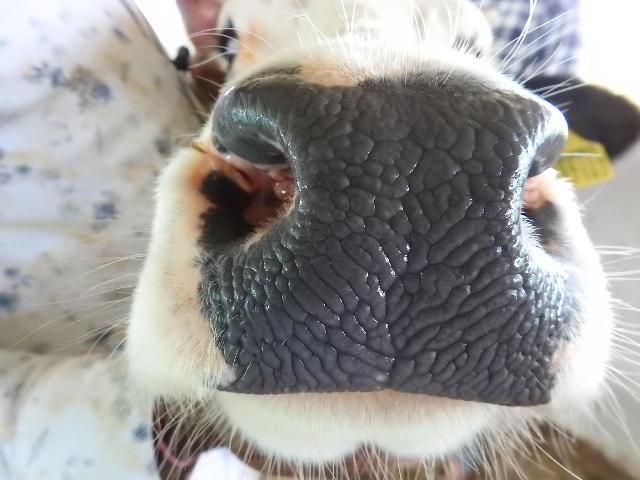Muzzle: (268, 90, 530, 390)
